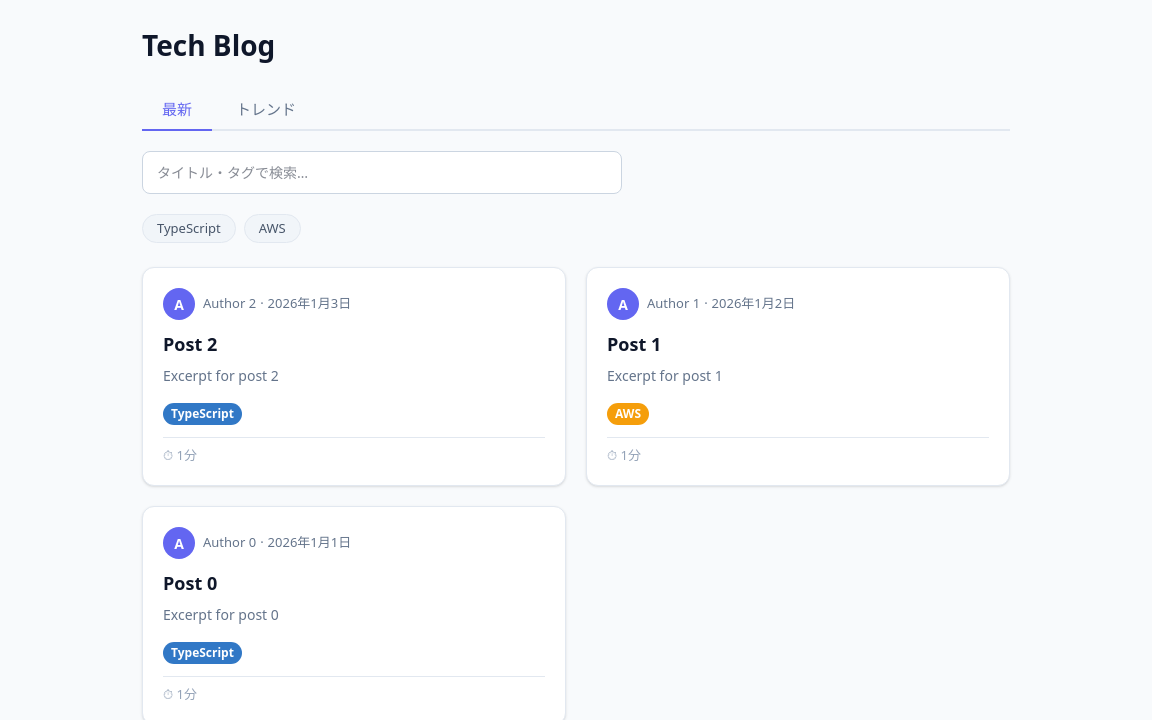
Test: TopPage › キーワード検索 › クリアボタンクリックで検索がリセットされ全件表示に戻る
Type "Post 0" into the field with test id "search-input" at (382, 172), box [142, 150, 622, 194]
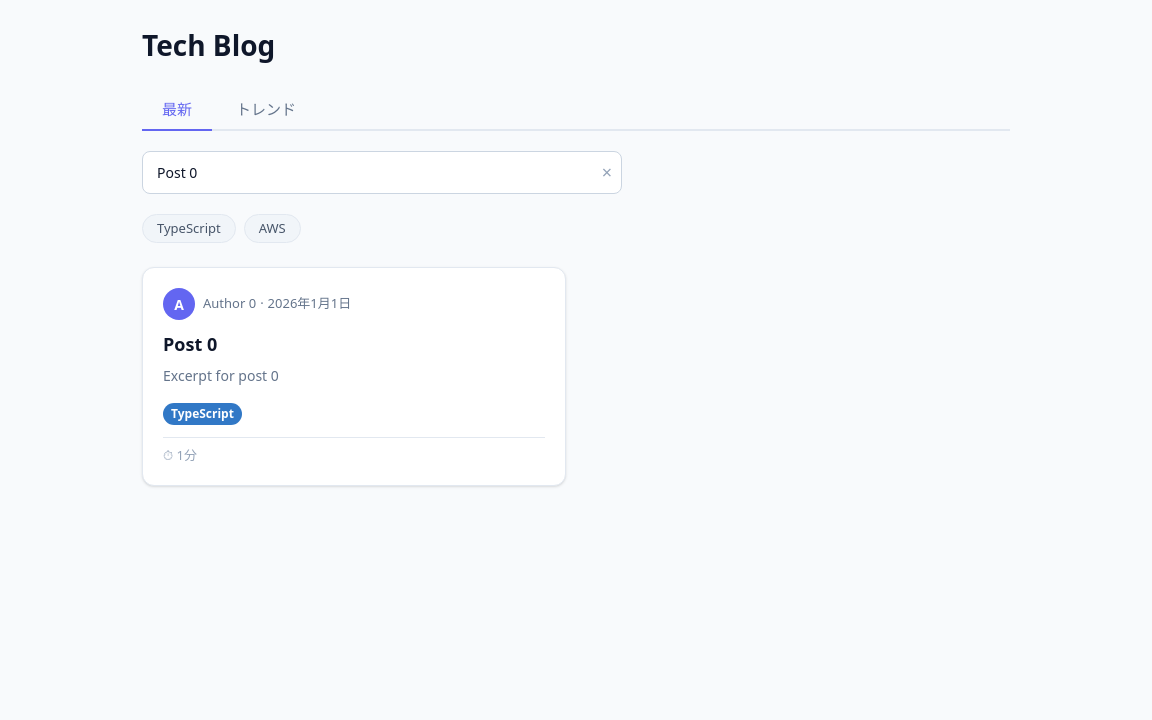
Now the number of links with test id "blog-post-card" is 1, box [142, 267, 566, 486]
Click the button with test id "search-clear" at (607, 172), box [602, 163, 612, 181]
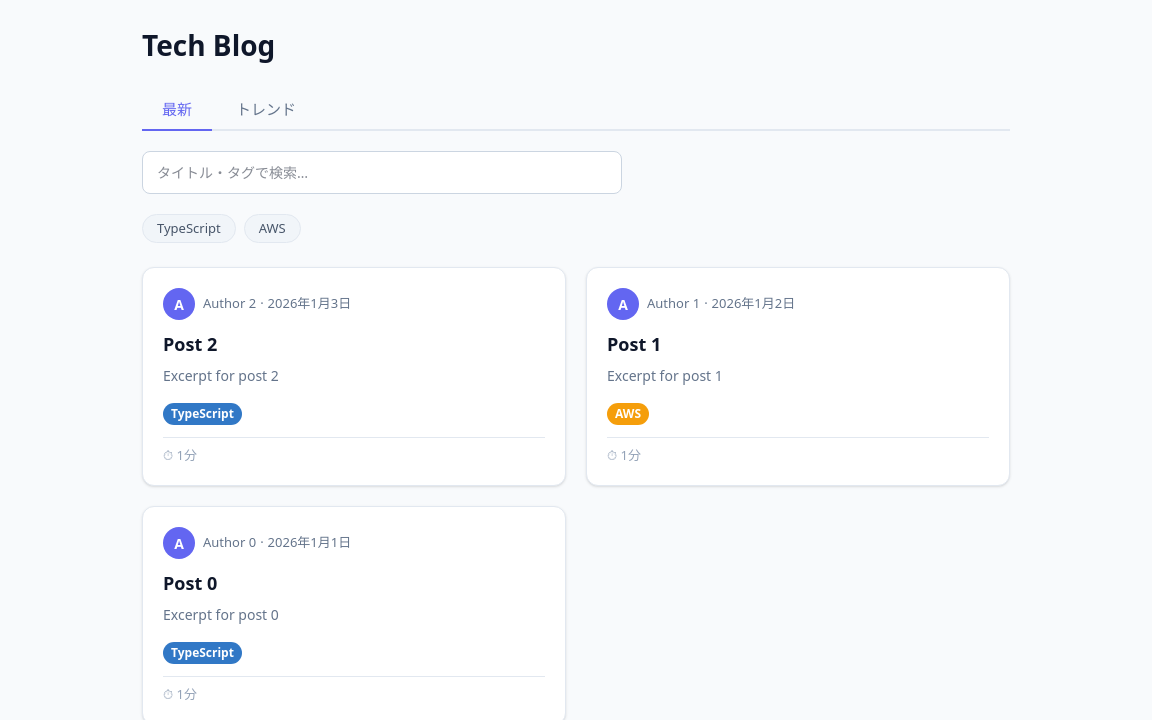
Now the field with test id "search-input" is empty, box [142, 150, 622, 194]
